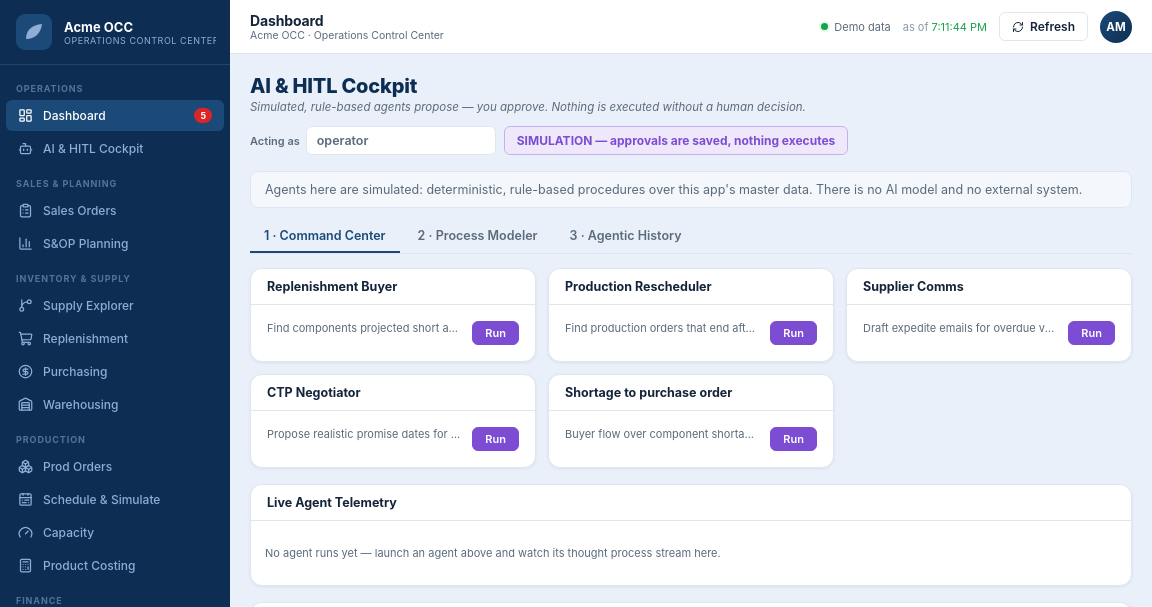
Test: AI cockpit page › run agent, approve in simulation (journaled with the acting id), then validate and discard the saved plan
The image size is (1152, 607).
Expected: the heading "AI & HITL Cockpit" is shown, [250,74,417,98]
Expected: the heading "Replenishment Buyer" is shown, [267,279,397,294]
Replace the text in the field titled "Human id journaled" with "alice" at (401, 140), box [306,126,496,155]
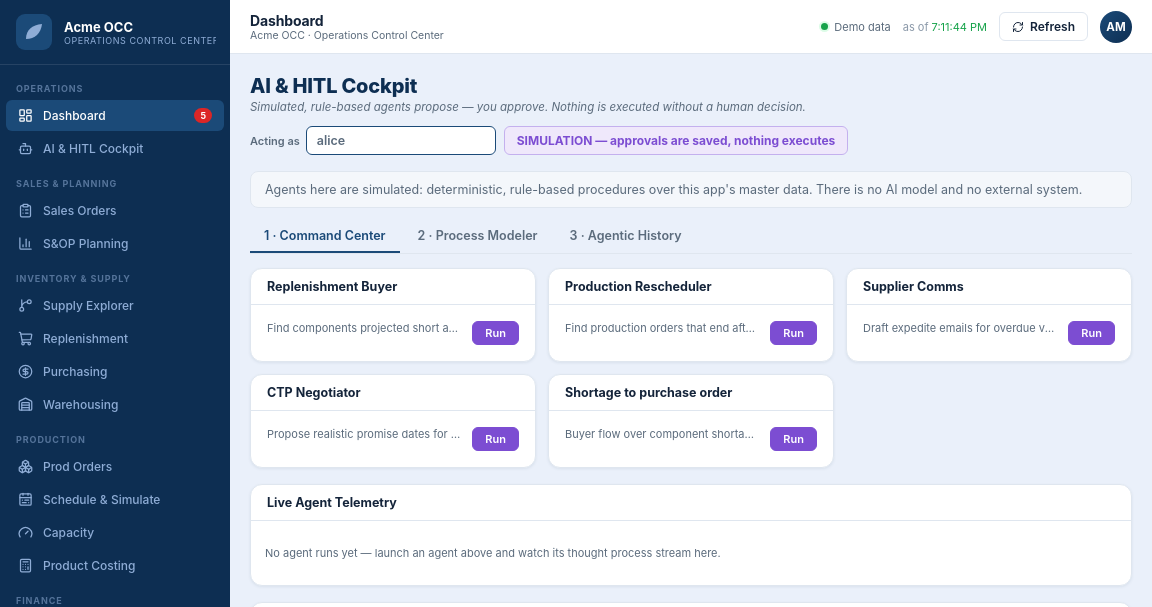
Click the button "Run" below "Replenishment Buyer" at (496, 333), box [472,321,519,345]
(page scrolled)
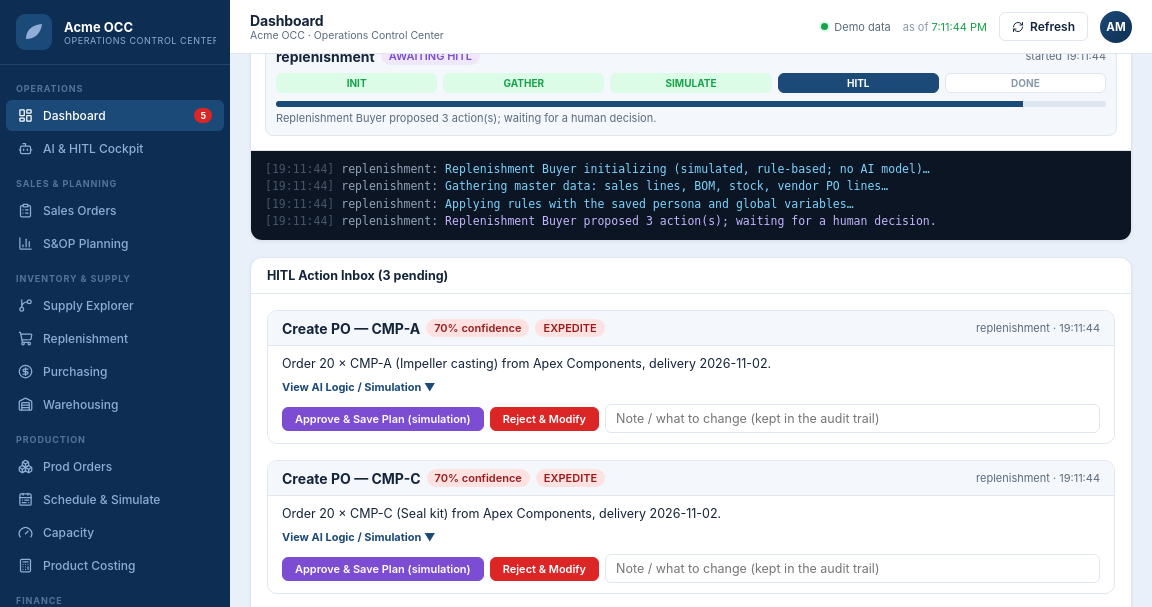
Click the button "View AI Logic / Simulation ▼" below "Create PO — CMP-A" at (359, 387), box [282,380,436,394]
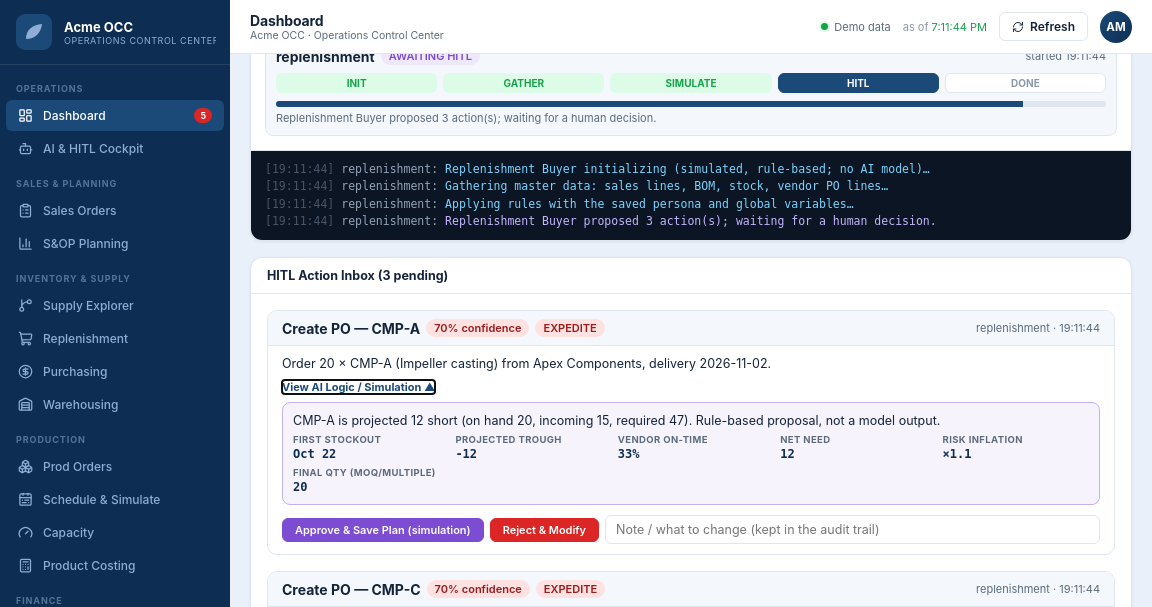
Expected: the text "Risk inflation" is shown, [943,434,1023,445]
Click the button "Approve & Save Plan (simulation)" below "Final qty (MOQ/multiple)" at (383, 530), box [282,518,484,542]
(page scrolled)
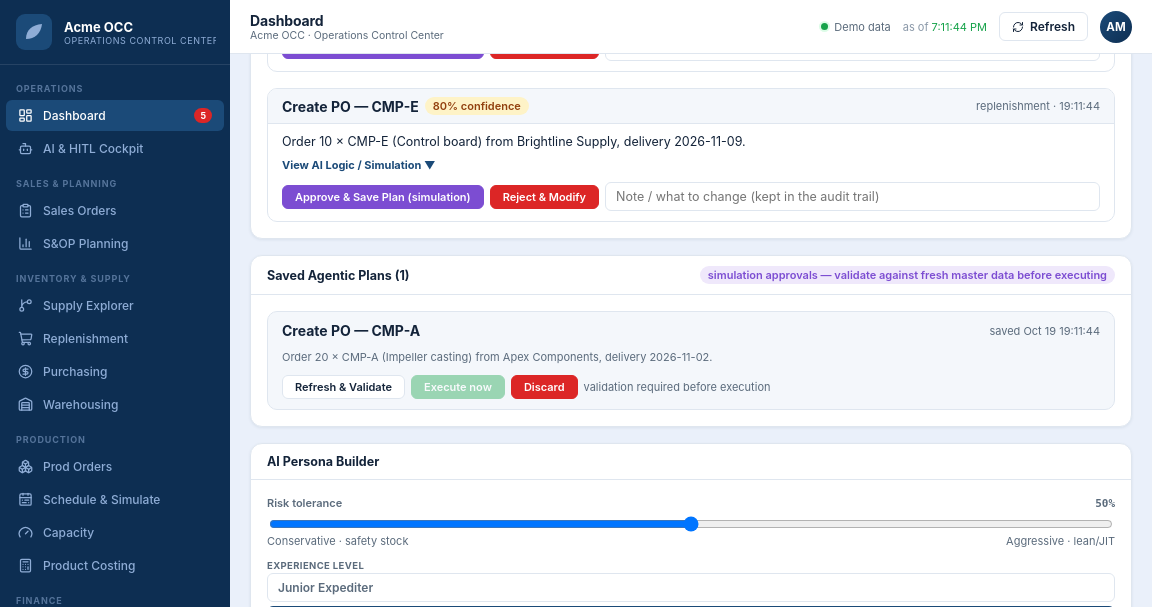
Expected: the heading "Saved Agentic Plans (1)" is shown, [267,268,410,282]
Expected: the button "Execute now" is disabled, [411,375,505,399]
Click the button "Refresh & Validate" at (344, 387), box [282,375,405,399]
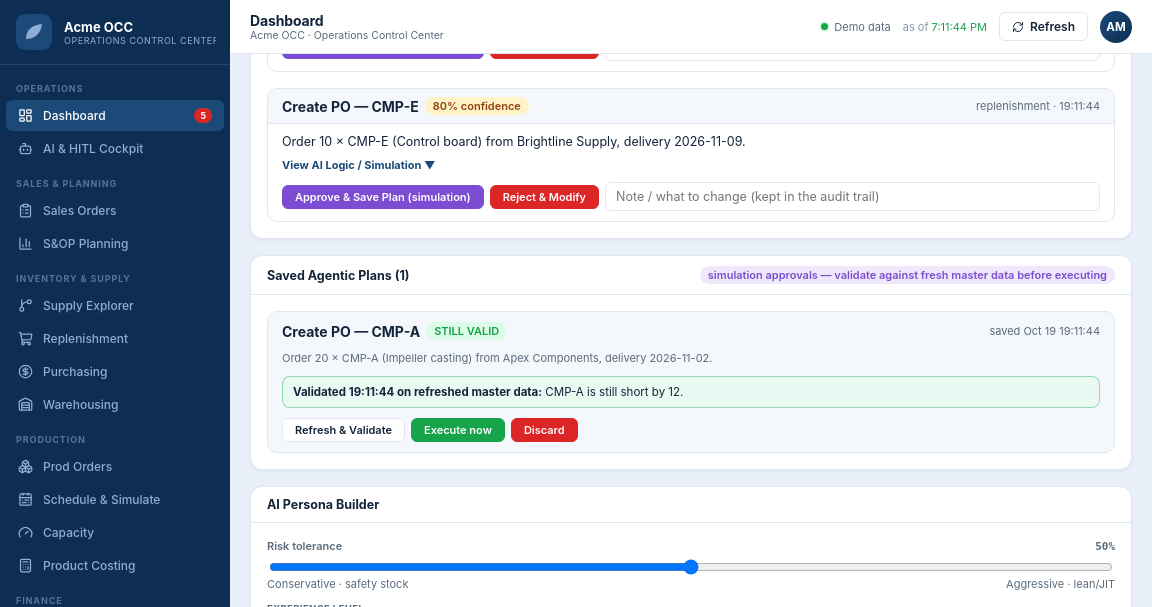
Expected: the text "STILL VALID" is shown, [426,322,507,340]
Expected: the button "Execute now" is enabled, [411,418,505,442]
Click the button "Discard" at (544, 430), box [511,418,578,442]
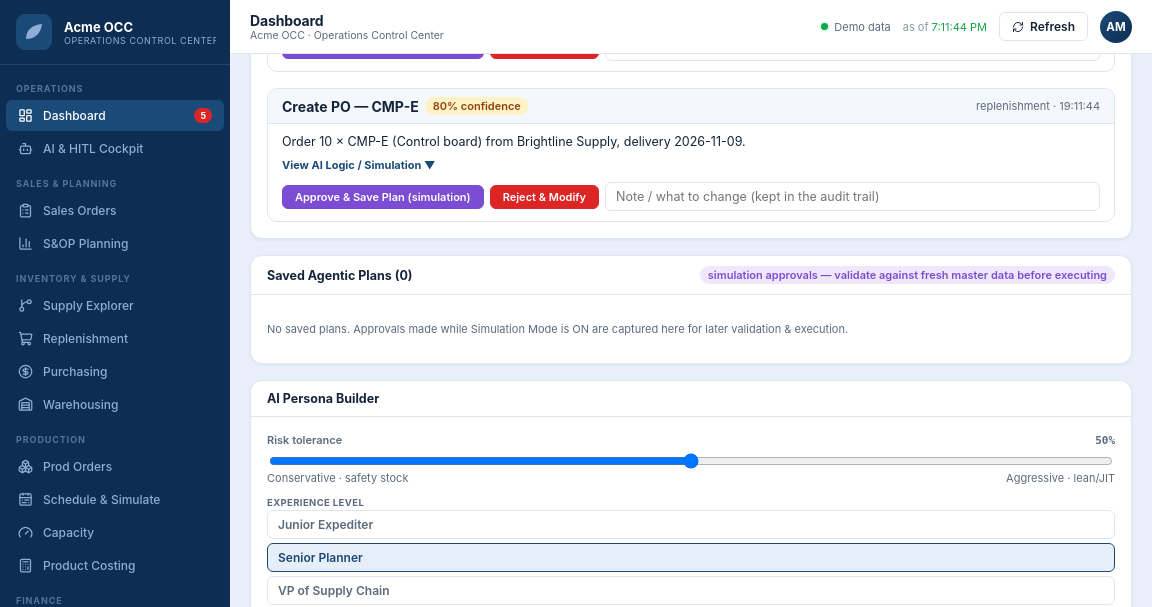
Expected: the heading "Saved Agentic Plans (0)" is shown, [267,268,413,282]
